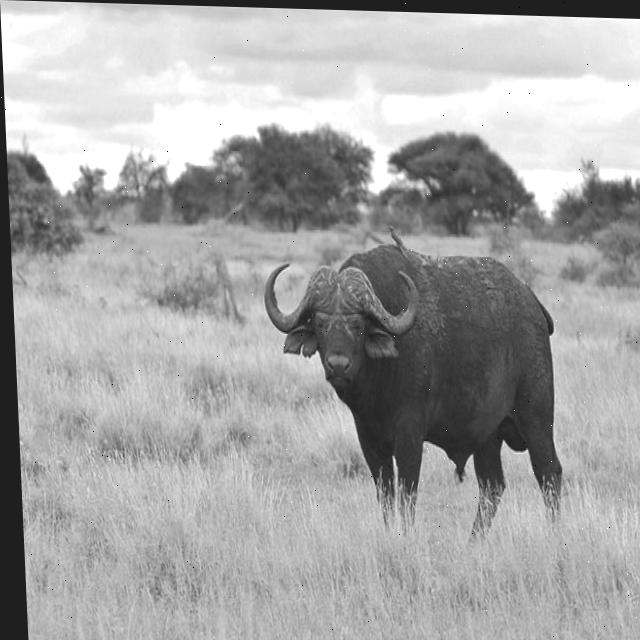Buffalo: (261, 242, 567, 546)
